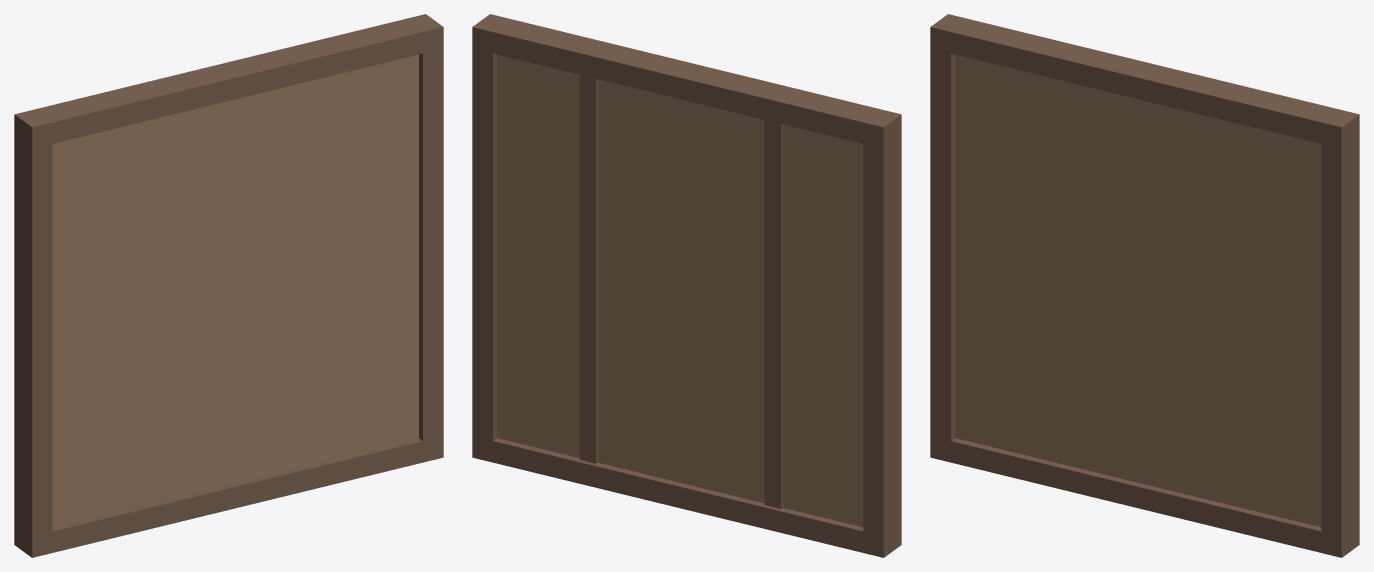
The model's file is haunted_wall_halftimber.glb.
3 renders of one model, left to right at view 1: azimuth 30°, elevation 25°; view 2: azimuth 150°, elevation 25°; view 3: azimuth 330°, elevation 25°, orthographic.
Parts seen in each view (by area): view 1: Haunted_Wall_HalfTimber; view 2: Haunted_Wall_HalfTimber; view 3: Haunted_Wall_HalfTimber.
Boxes of the visible parts, x1,y1,x2,y2 form: Haunted_Wall_HalfTimber: [14, 14, 443, 557]; Haunted_Wall_HalfTimber: [472, 14, 901, 557]; Haunted_Wall_HalfTimber: [930, 14, 1359, 557].
Size of the model in its own units: 4 by 4 by 0.3.
